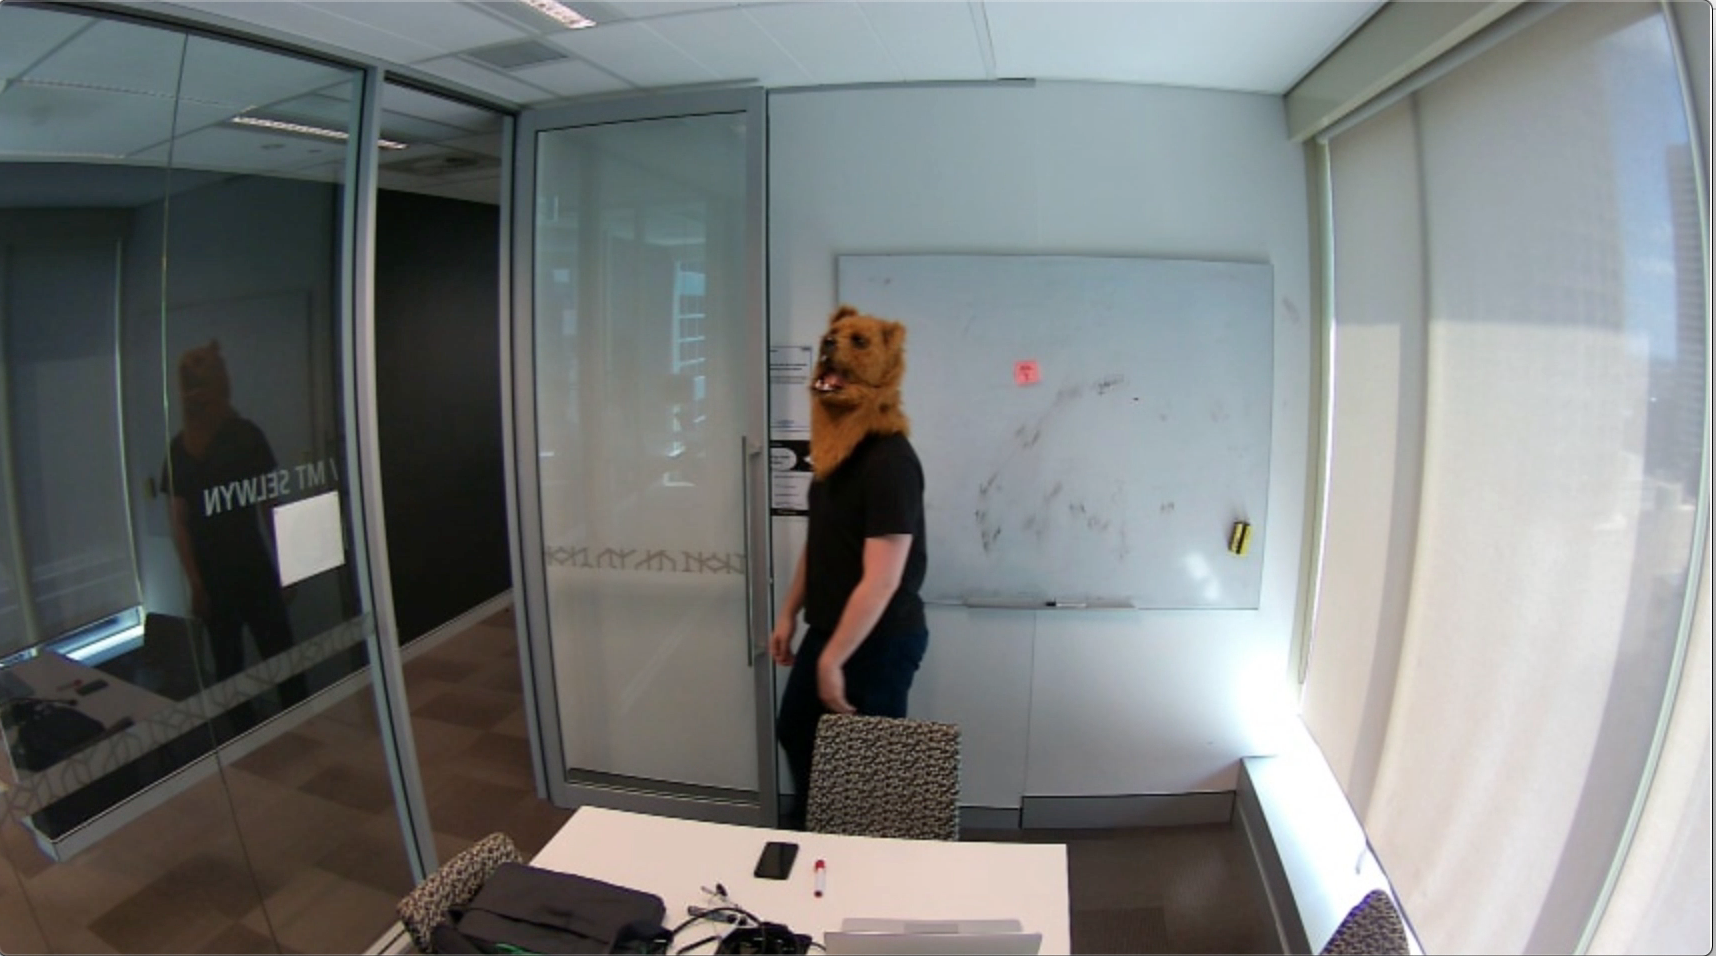Bear: (807, 298, 914, 429)
